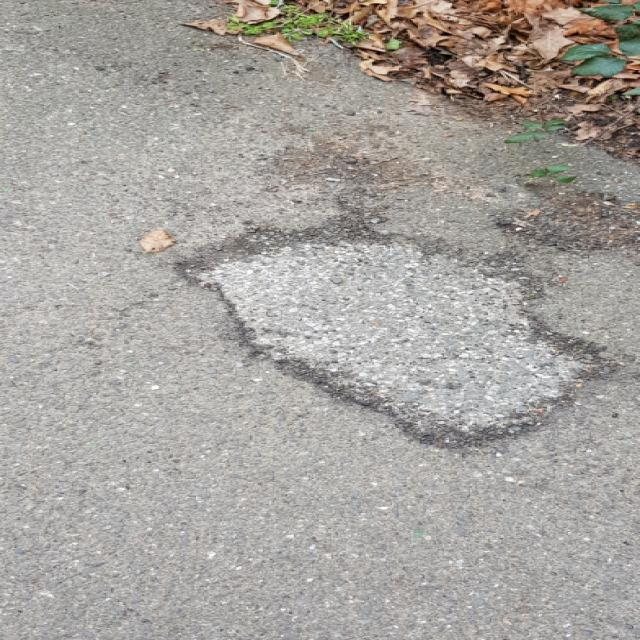pothole: (173, 212, 625, 454)
